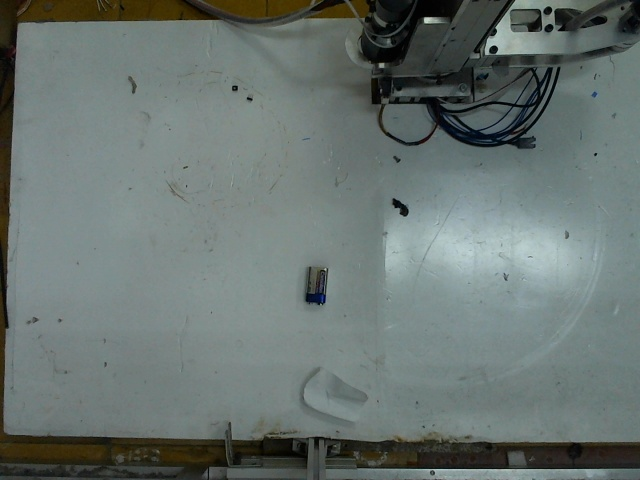battery: (301, 261, 328, 305)
